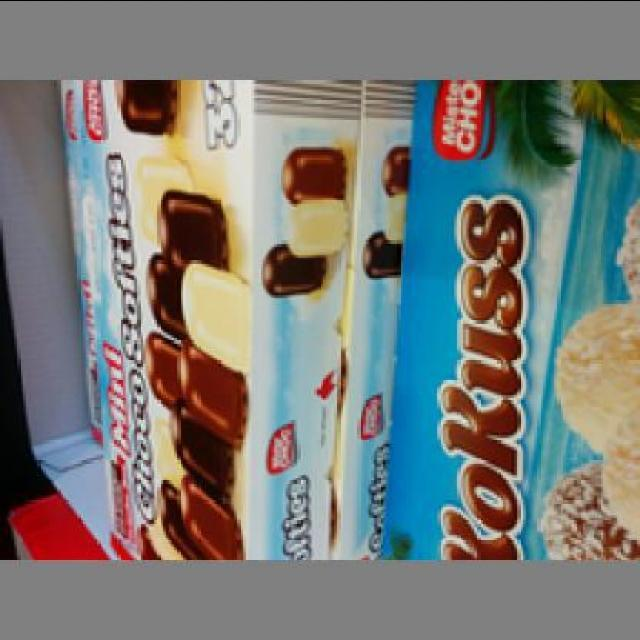Merendine: (89, 83, 357, 563), (377, 83, 637, 563)
